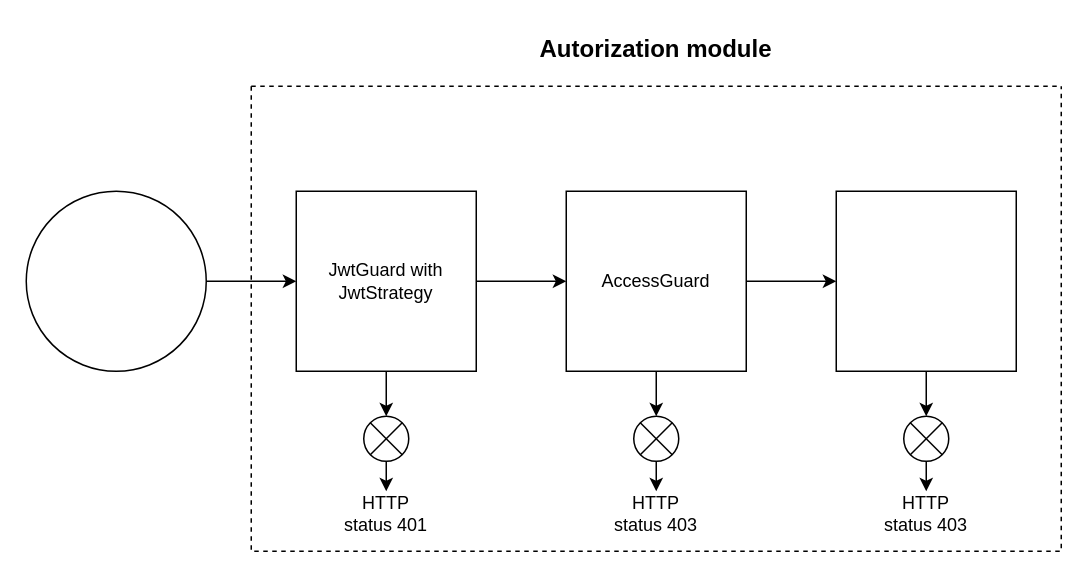
Some shapes in this 1088 by 578 pixel diagram are drawn without their labels. Each missing label, with the centre of its shape:
"Incomming HTTP request with authorization header: Bearer <JWT>" goes at (x=115, y=280).
"ScopesHTTPGuard" goes at (x=925, y=280).
